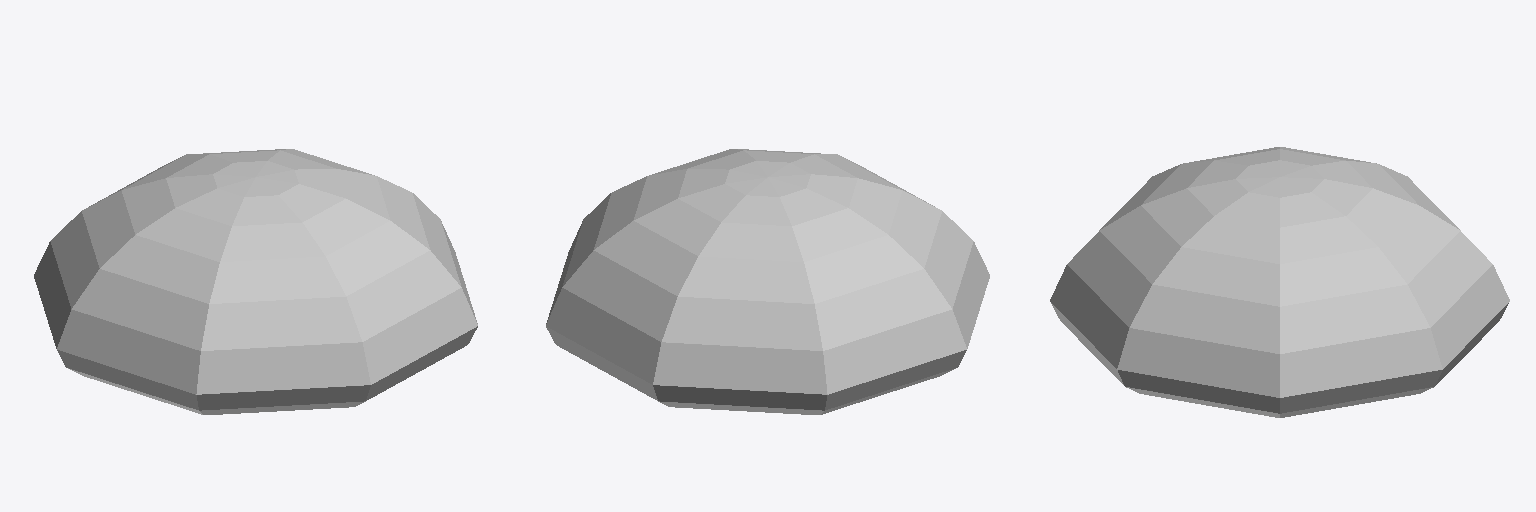
File: treeD.obj
The picture shows the model from 3 angles: view 1: azimuth 30°, elevation 25°; view 2: azimuth 150°, elevation 25°; view 3: azimuth 270°, elevation 25°; orthographic projection.
Parts seen in each view (by area): view 1: Tree_D_Circle.006; view 2: Tree_D_Circle.006; view 3: Tree_D_Circle.006.
Boxes of the visible parts, box(x1,y1,x2,y2) form: Tree_D_Circle.006: box(34, 149, 477, 414); Tree_D_Circle.006: box(546, 149, 989, 414); Tree_D_Circle.006: box(1050, 147, 1509, 417).
Size of the model in its own units: 1.51 by 0.5706 by 1.51.